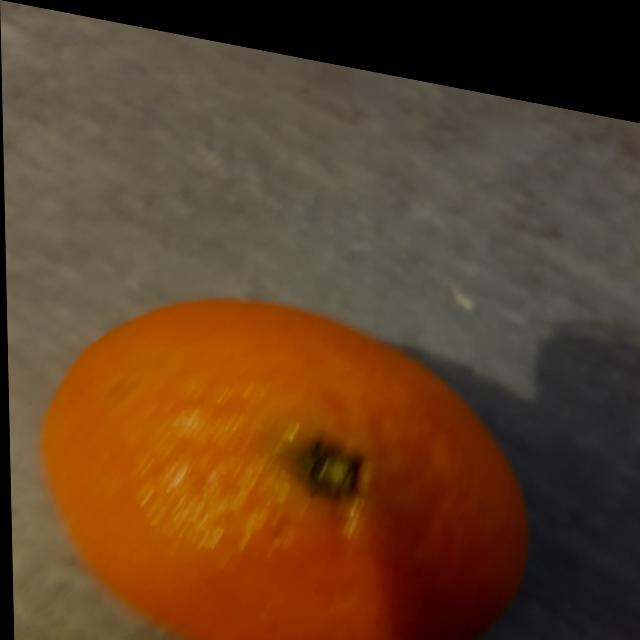Orange: (35, 289, 528, 640)
